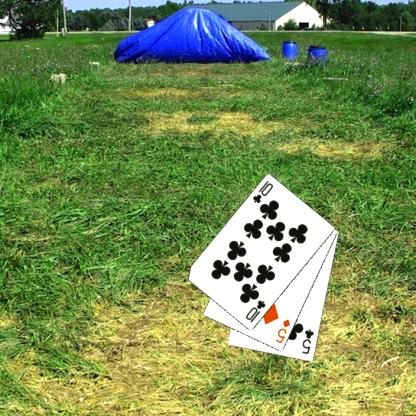10C: (250, 178, 275, 205), (243, 298, 267, 324)
5C: (300, 326, 315, 356)
5D: (273, 317, 291, 345)
